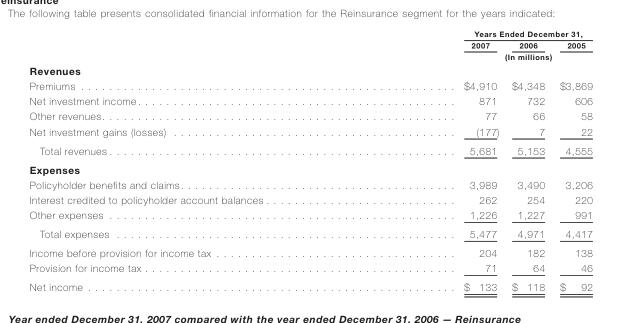table: (28, 28, 591, 292)
table column: (28, 28, 362, 292), (362, 28, 504, 292), (504, 28, 551, 292), (551, 28, 591, 292)
table column header: (28, 28, 591, 62)
table projected row header: (28, 159, 591, 176), (28, 62, 591, 78)
table row: (28, 140, 591, 159), (28, 223, 591, 242), (28, 123, 591, 140), (28, 159, 591, 176), (28, 206, 591, 223), (28, 242, 591, 259), (28, 259, 591, 276), (28, 62, 591, 78), (28, 276, 591, 292), (28, 78, 591, 93), (28, 93, 591, 108), (28, 108, 591, 123), (28, 176, 591, 191), (28, 191, 591, 206), (28, 38, 591, 50), (28, 50, 591, 62), (28, 28, 591, 38)
table spanning cell: (362, 50, 591, 62), (362, 28, 591, 38)
